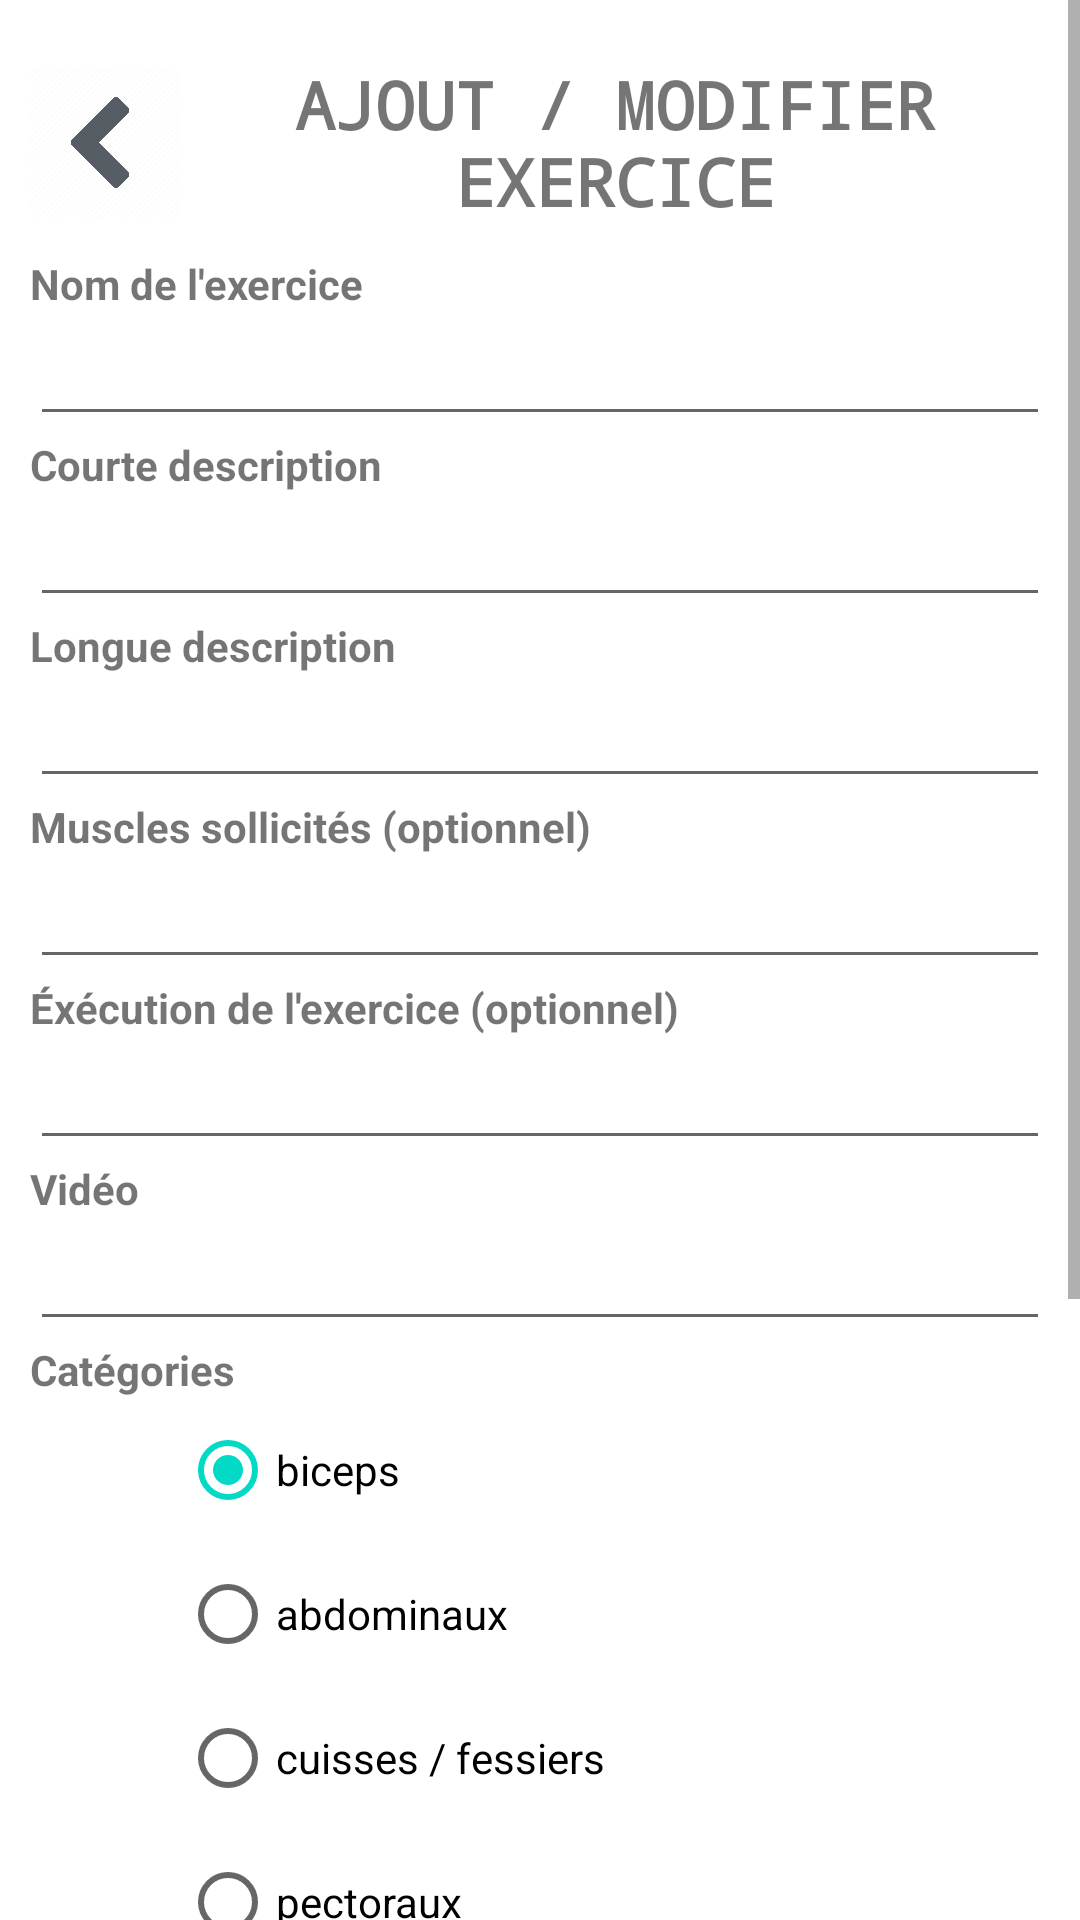

Locate icon controls on the screen. Image size 1080*1920, boxes as box=[x1, y1, x2, y2].
back: box=[71, 97, 129, 188]
